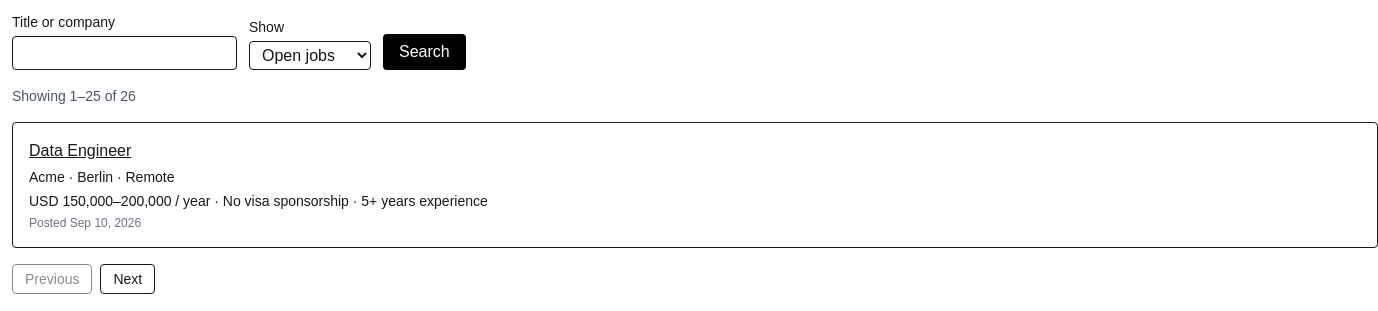
Test case: JobsClient › also disables paging while a new search is loading, since the old total no longer applies
Expected: the text "Showing 1–25 of 26" is shown, [12,88,136,104]
Step 1. Type "rare" into the field labelled "Title or company" → (124, 53), box [12,36,237,70]
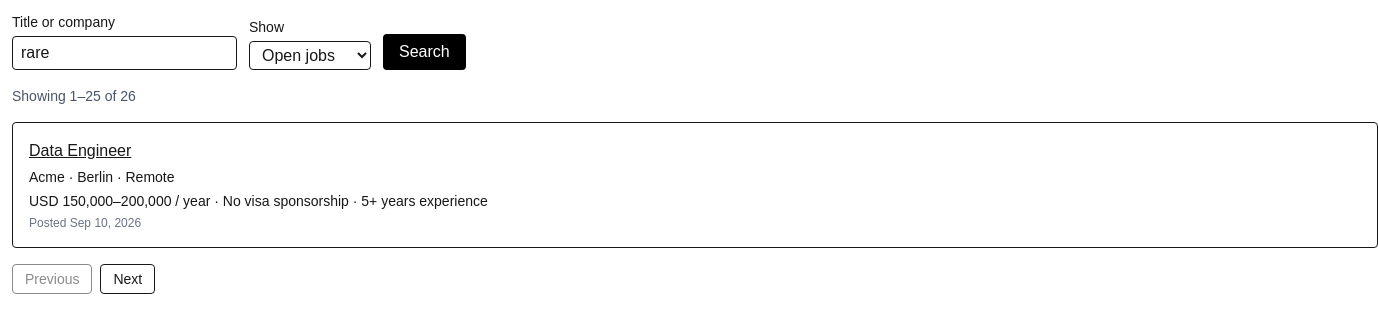
Step 2. Click the button "Search" → (424, 52), box [383,34,466,70]
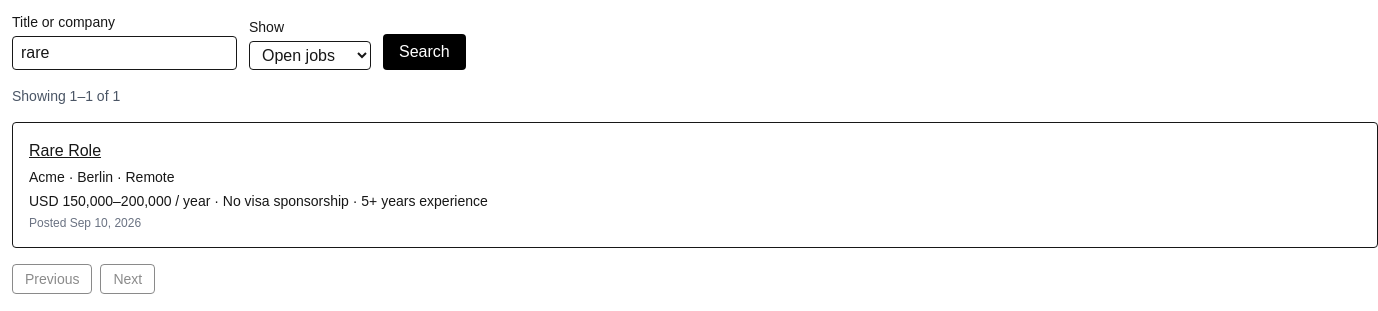
Result: the link "Rare Role" is shown at [29,139,101,163]
Result: the button "Next" is disabled at [100,264,155,294]
Result: the text "Showing 1–1 of 1" is shown at [12,88,120,104]
